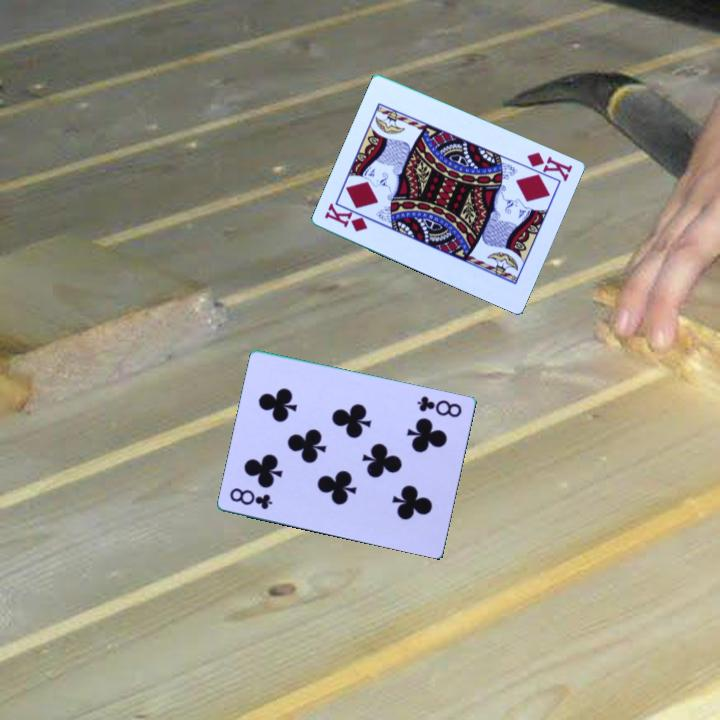8c: (414, 392, 465, 420), (227, 484, 276, 512)
Kd: (519, 148, 576, 184), (321, 201, 371, 234)
